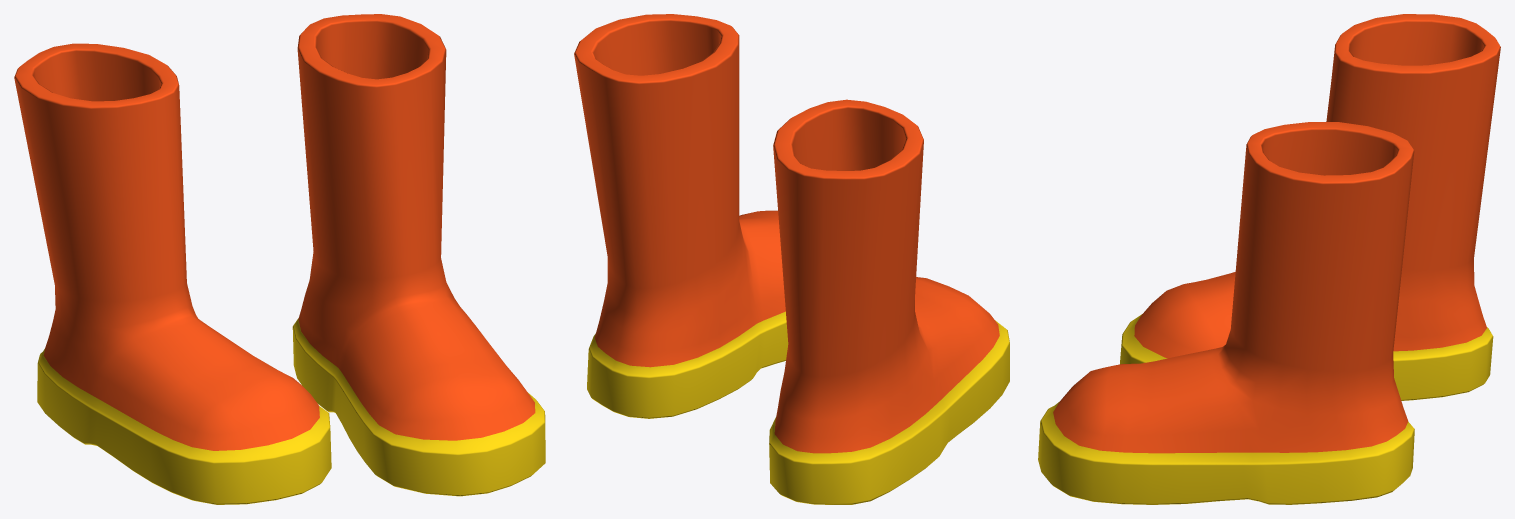
File: Farm_10_Boots_1.glb
3 views of the same model, side by side, from view 1: azimuth 30°, elevation 25°; view 2: azimuth 150°, elevation 25°; view 3: azimuth 270°, elevation 25° (orthographic). The views are drawn at different scales.
Parts seen in each view (by area): view 1: Farm_10_Boots_1; view 2: Farm_10_Boots_1; view 3: Farm_10_Boots_1.
Boxes of the visible parts, x1,y1,x2,y2 form: Farm_10_Boots_1: (14, 14, 545, 504); Farm_10_Boots_1: (574, 14, 1009, 504); Farm_10_Boots_1: (1038, 14, 1500, 504).
Size of the model in its own units: 0.3886 by 0.345 by 0.4368.
1 material, 1 textured.
